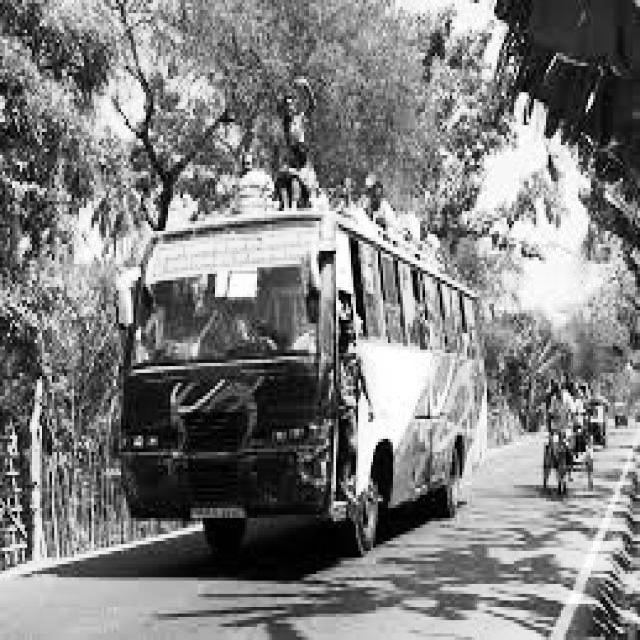Bus: (108, 151, 500, 575)
